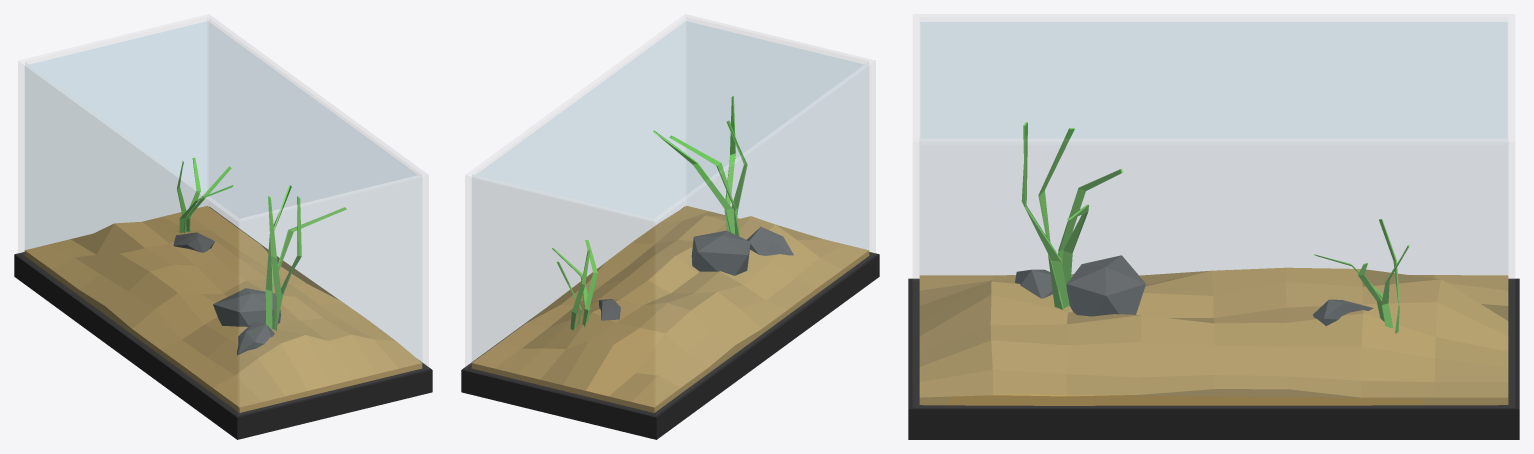
The model's file is fish tank.fbx.
3 views of the same model, side by side, from view 1: azimuth 30°, elevation 25°; view 2: azimuth 150°, elevation 25°; view 3: azimuth 270°, elevation 25° (orthographic). The views are drawn at different scales.
Parts seen in each view (by area): view 1: Fish_Tank_Cube.003; view 2: Fish_Tank_Cube.003; view 3: Fish_Tank_Cube.003.
Boxes of the visible parts, <box> form: Fish_Tank_Cube.003: <box>14,14,432,439</box>; Fish_Tank_Cube.003: <box>461,14,879,439</box>; Fish_Tank_Cube.003: <box>908,14,1519,439</box>.
Size of the model in its own units: 129 by 137 by 255.
